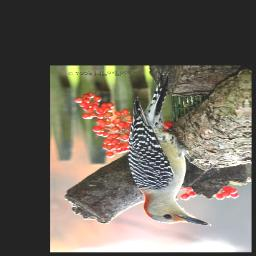Woodpecker: (126, 66, 217, 230)
